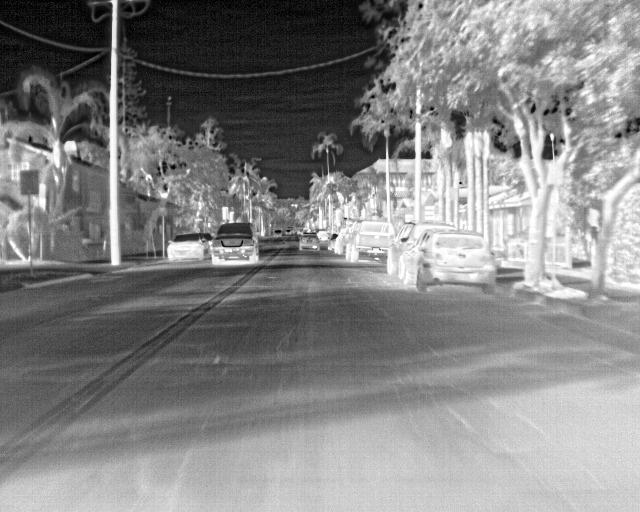car: (400, 230, 496, 292), (385, 221, 453, 277), (342, 221, 394, 263), (211, 223, 258, 266), (166, 232, 211, 262), (296, 230, 319, 250), (334, 223, 349, 253), (326, 234, 341, 249), (317, 228, 329, 241), (271, 227, 283, 238)
